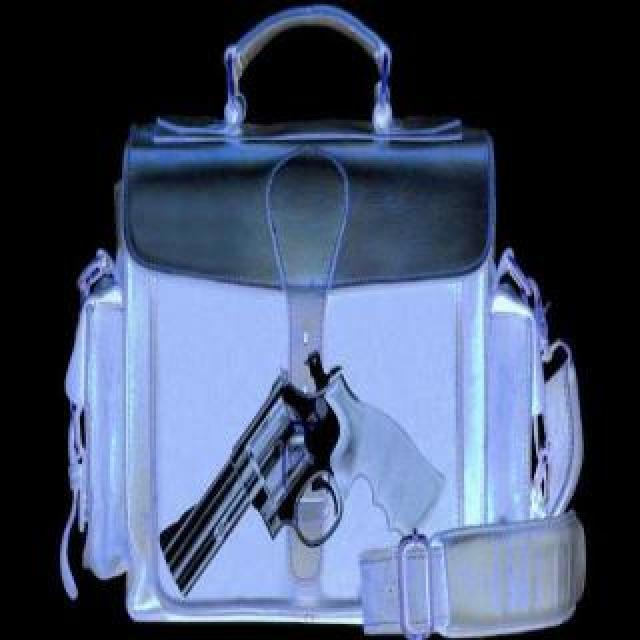gun: (156, 352, 448, 596)
